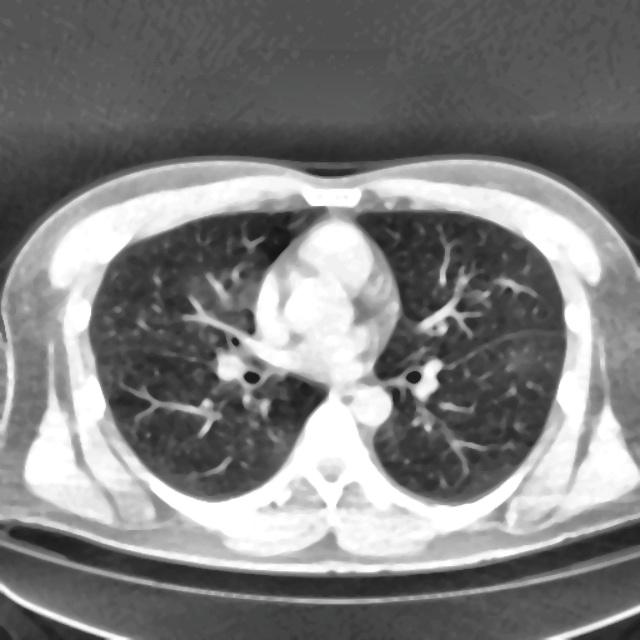covid: (2, 153, 638, 572)
